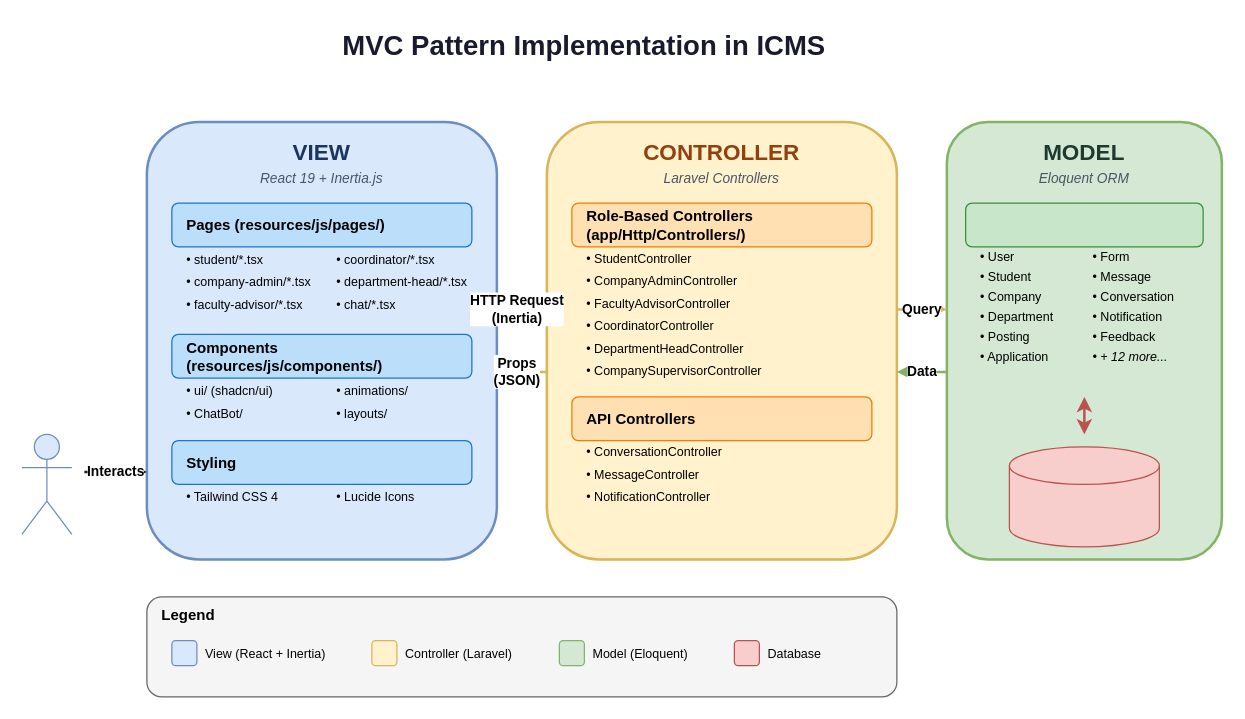
This 1245x719 diagram has some shape labels left out. Here are the shapes that lost their labels. From the top down, the centre of each, then its label:
[1083,224]: Eloquent Models (app/Models/)
[46,483]: User
[1083,496]: MySQL Database
